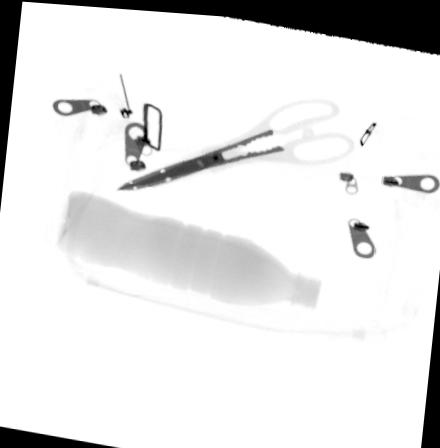Scissors: (115, 95, 354, 189)
